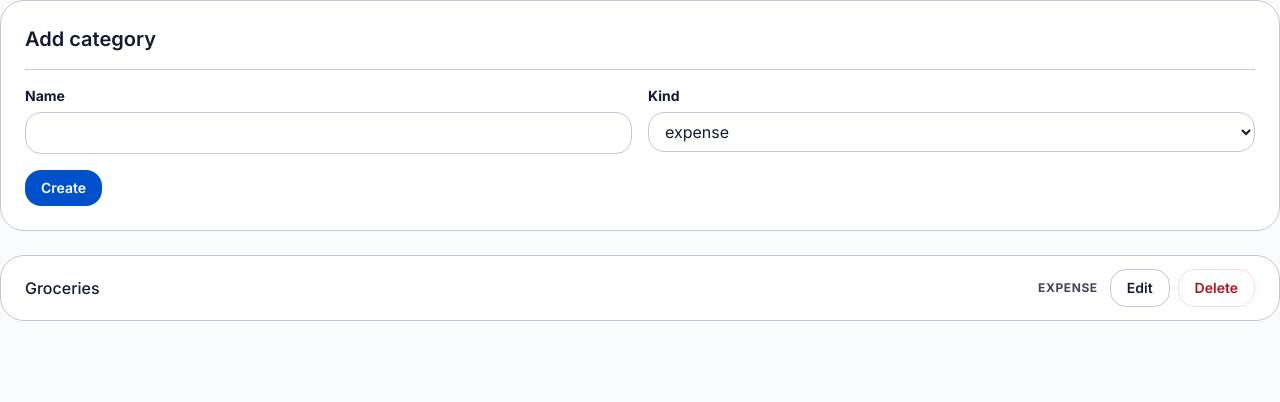
Test: CategoriesContainer › creates a new category and refreshes the list
Expected: the text "Groceries" is shown, [25,278,100,298]
Type "Salary" into the field labelled "Name" at (328, 133), box [25,112,632,154]
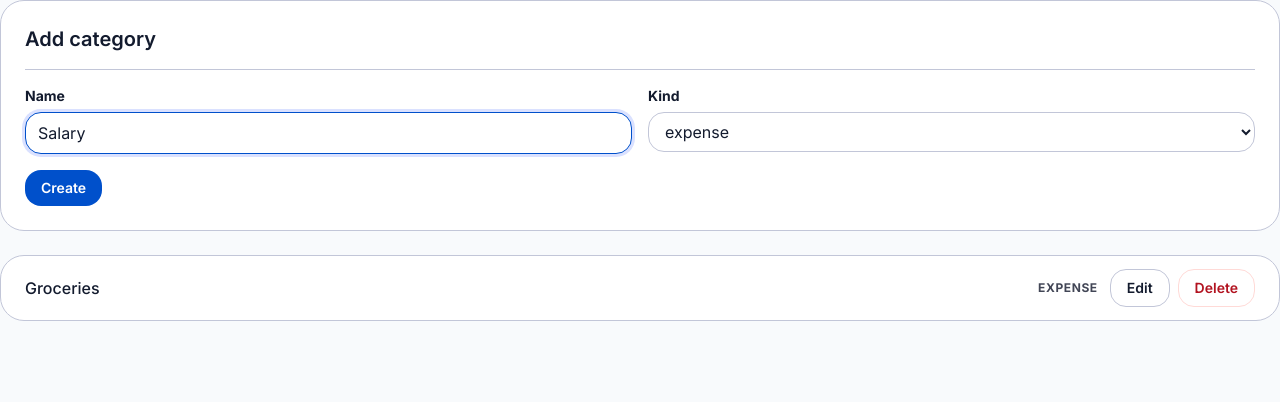
Select "income" in the dropdown labelled "Kind" at (952, 132), box [648,112,1255,152]
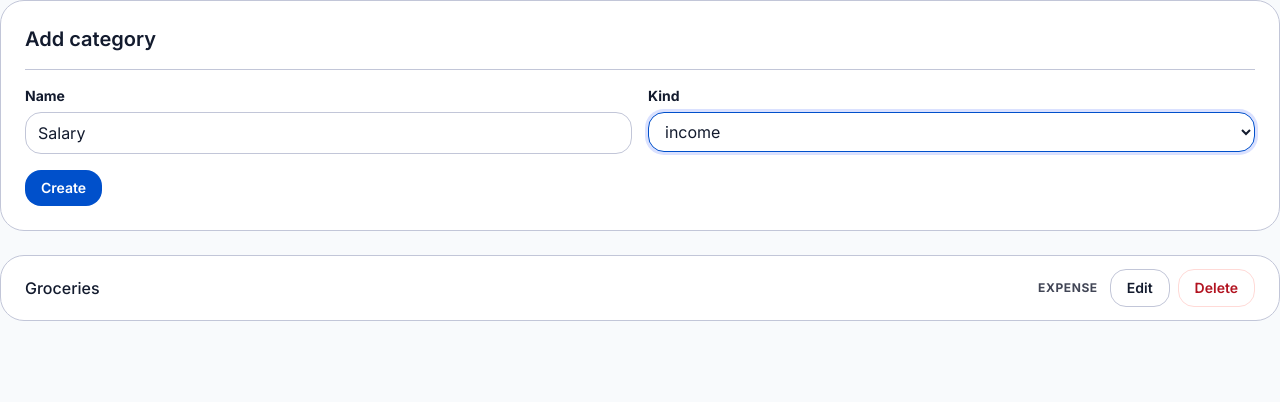
Click the button "Create" at (64, 188), box [25,170,102,206]
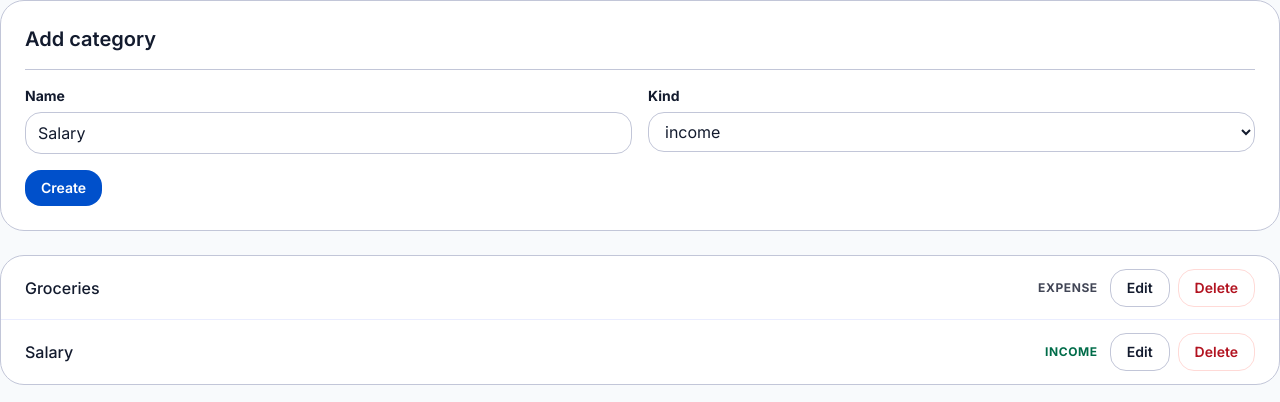
Now the text "Salary" is shown, box [25,342,73,362]
